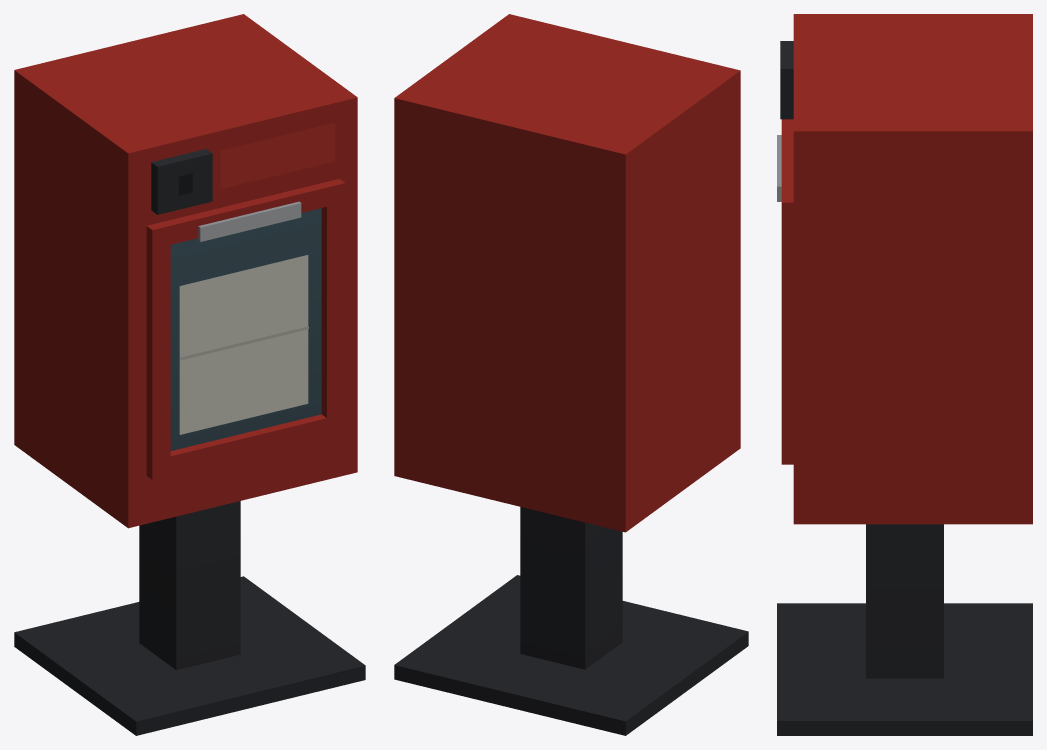
The model's file is street.newsbox.red.glb.
3 renders of one model, left to right at view 1: azimuth 30°, elevation 25°; view 2: azimuth 150°, elevation 25°; view 3: azimuth 270°, elevation 25°, orthographic. The views are drawn at different scales.
Parts seen in each view (by area): view 1: street_newsbox_red; view 2: street_newsbox_red; view 3: street_newsbox_red.
Part boxes in pixels (left/top/right/bottom): street_newsbox_red: left=14, top=14, right=365, bottom=735; street_newsbox_red: left=394, top=14, right=748, bottom=735; street_newsbox_red: left=777, top=14, right=1032, bottom=735.
Size of what is drawn, in the model's own units: 0.5 by 1.2 by 0.46.
